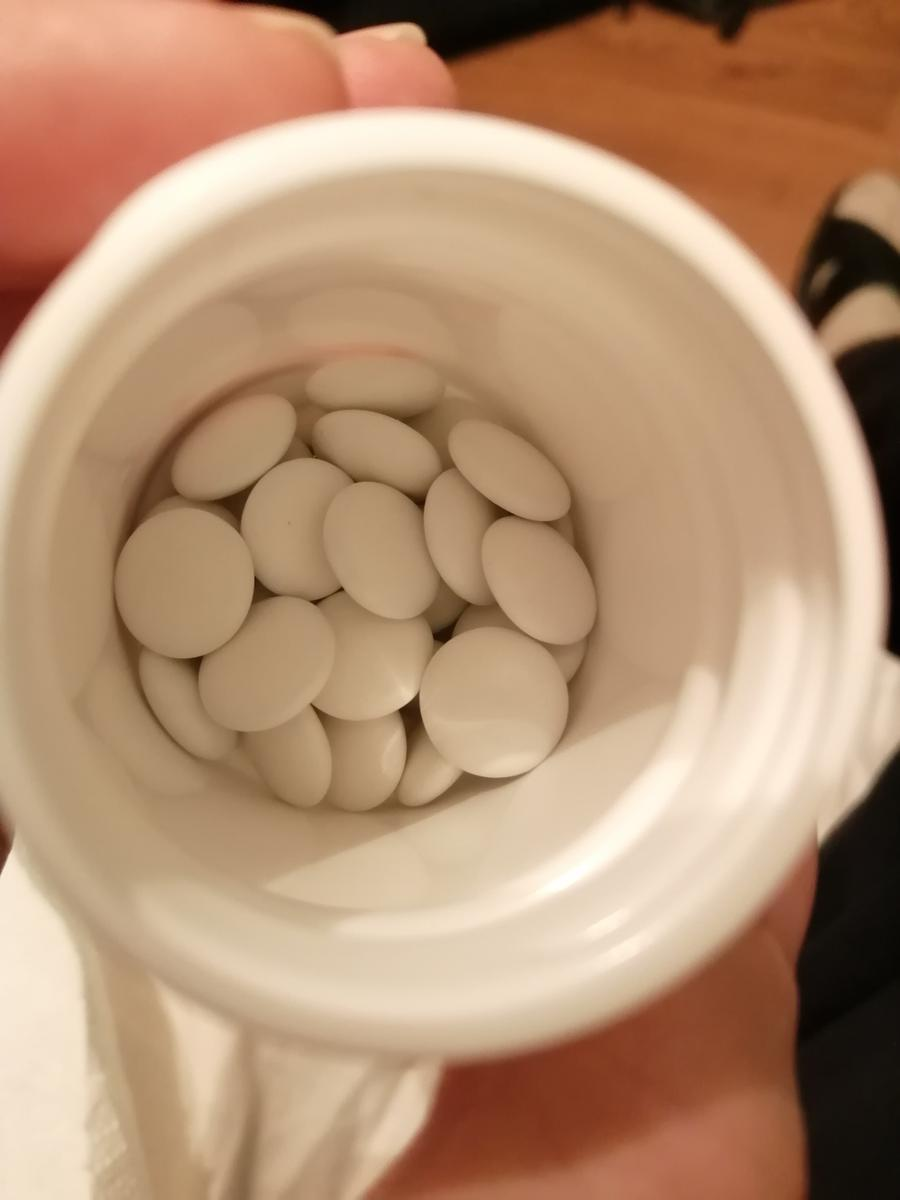tablet: (112, 507, 256, 661), (422, 626, 572, 773), (294, 587, 434, 723), (196, 597, 334, 731), (424, 469, 549, 607), (324, 483, 448, 621), (245, 457, 365, 597), (482, 511, 601, 645), (449, 419, 574, 519), (310, 407, 441, 500), (174, 394, 294, 495), (131, 649, 239, 761), (303, 706, 408, 814), (241, 700, 332, 813), (306, 352, 444, 416)
